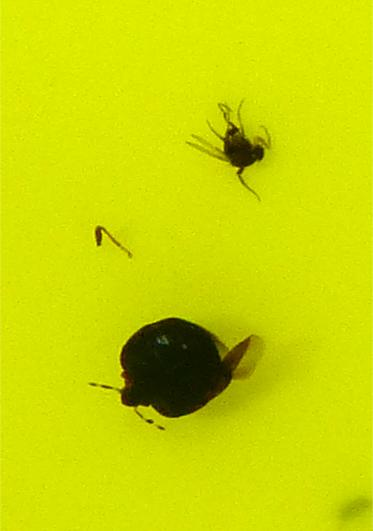Brachycera: (208, 100, 273, 188)
Coleoptera: (100, 312, 266, 431)
